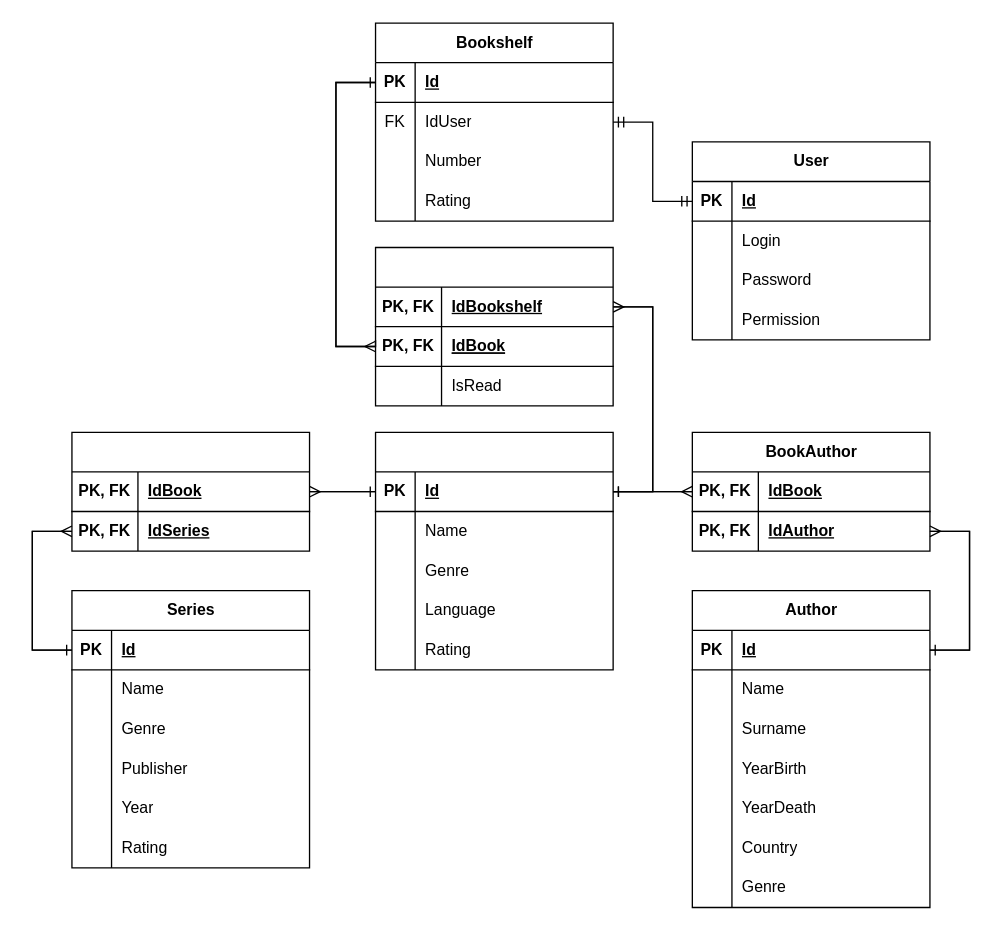
This 1003x931 diagram has some shape labels left out. Each missing label, with the box of its shape:
Book: (374, 431, 613, 670)
BookSeries: (71, 431, 310, 551)
BookshelfBook: (374, 246, 613, 406)
